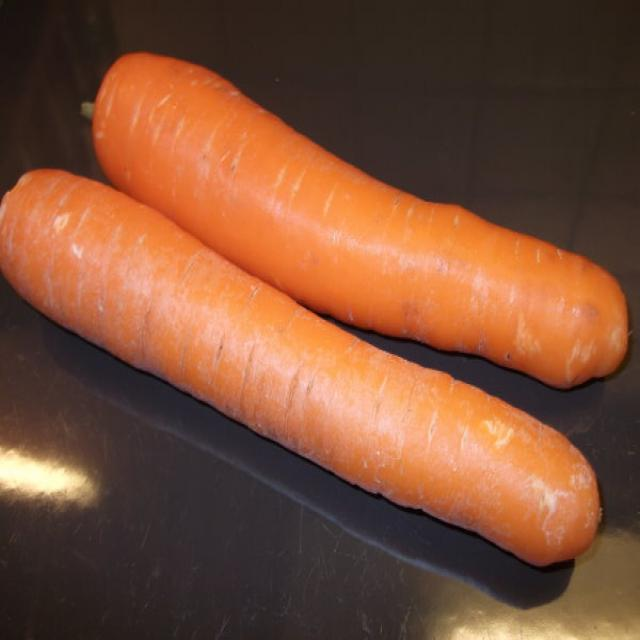Carrot: (0, 164, 604, 565), (90, 51, 632, 388)
